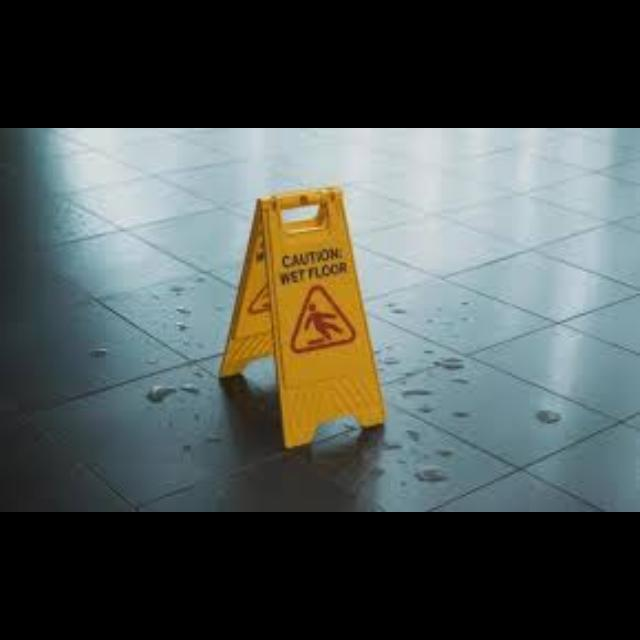tron truot: (221, 188, 382, 446)
